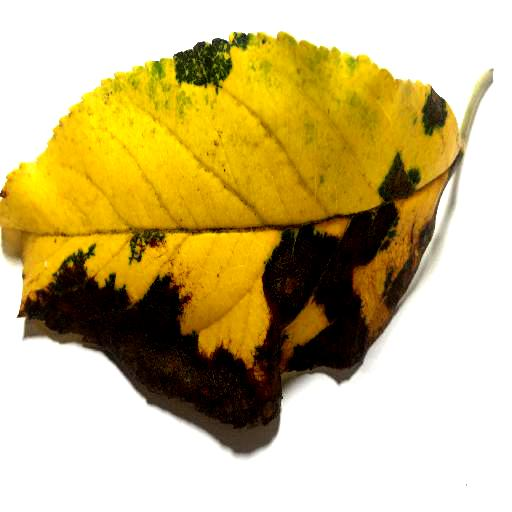Brown_Spot: (16, 227, 444, 453), (158, 33, 264, 94), (395, 83, 459, 141), (375, 153, 425, 195)
